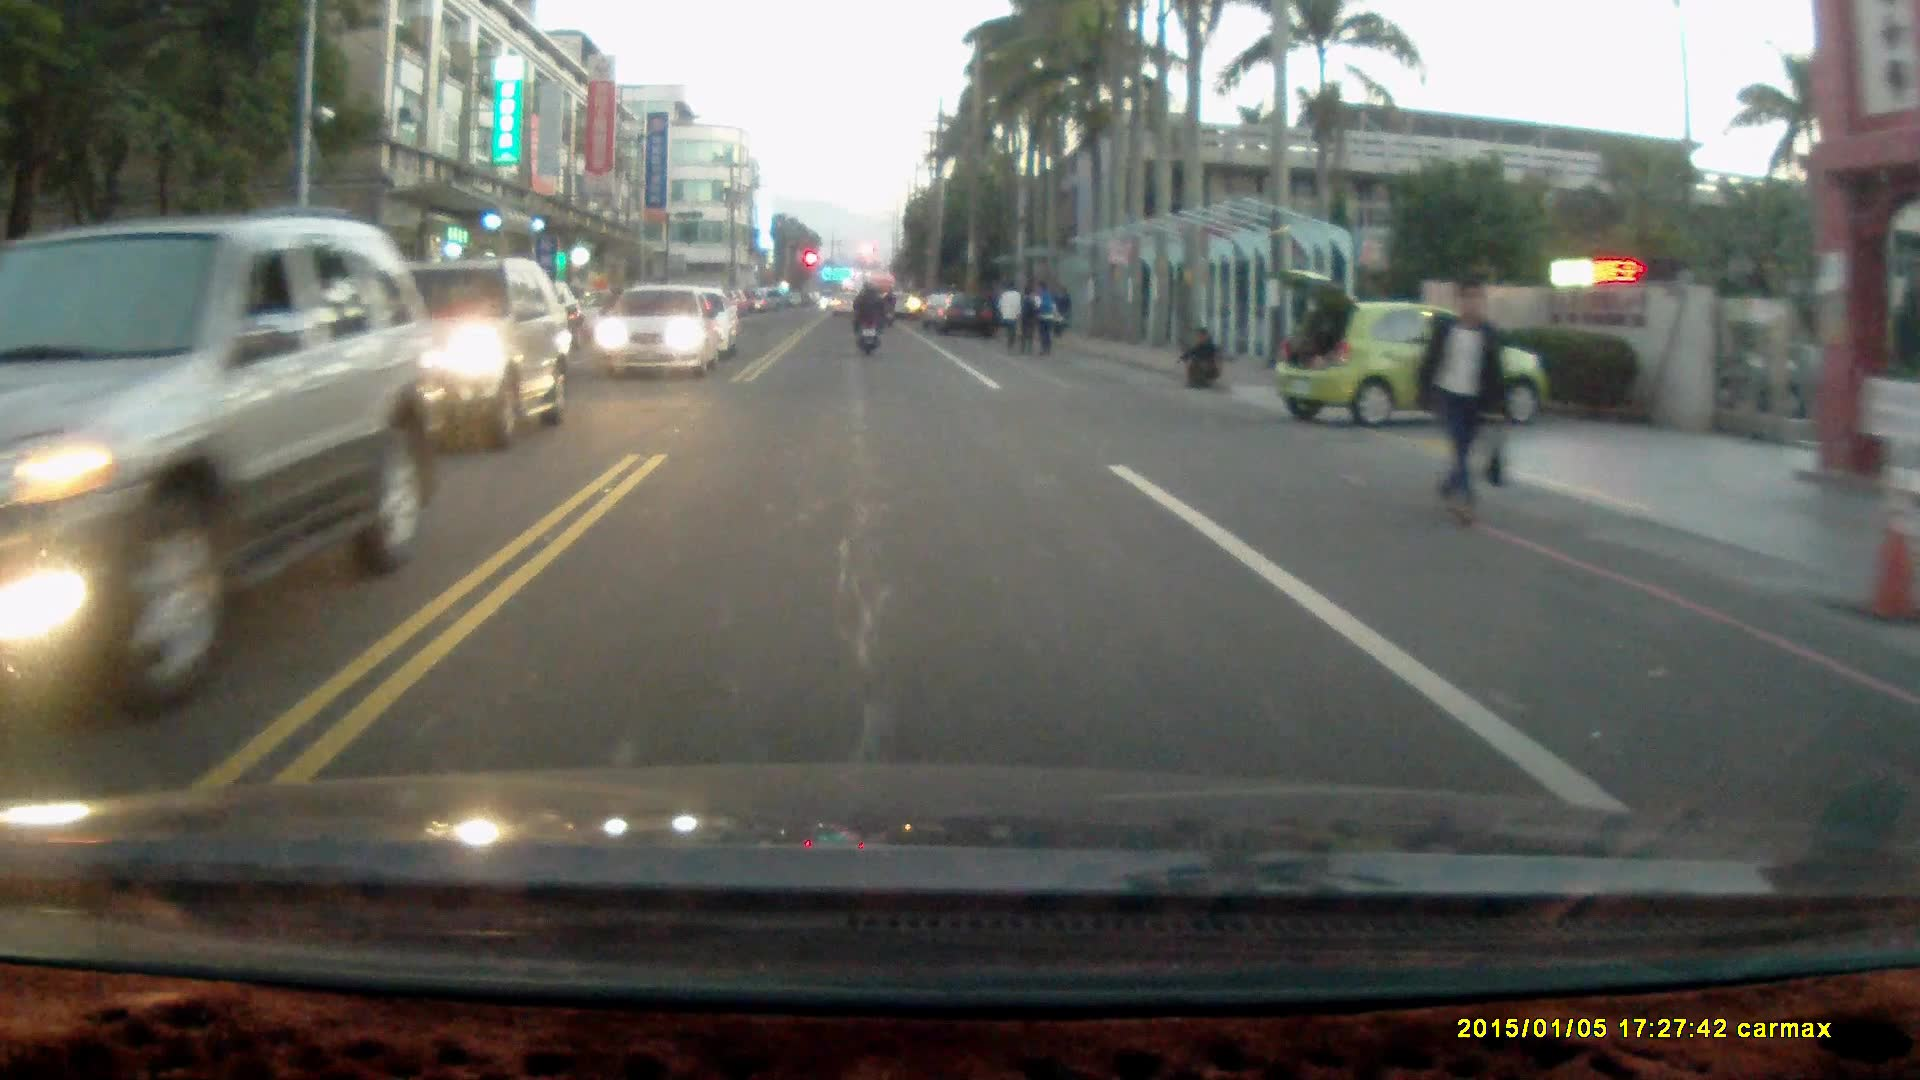pedestrian: (1410, 272, 1512, 524), (1181, 324, 1225, 390), (1030, 278, 1061, 354), (999, 280, 1024, 358), (1016, 284, 1041, 354)
rider: (849, 278, 886, 353)
vehicle: (1, 212, 446, 738), (316, 256, 574, 454), (1272, 265, 1533, 426), (595, 282, 718, 377), (939, 286, 998, 336)
